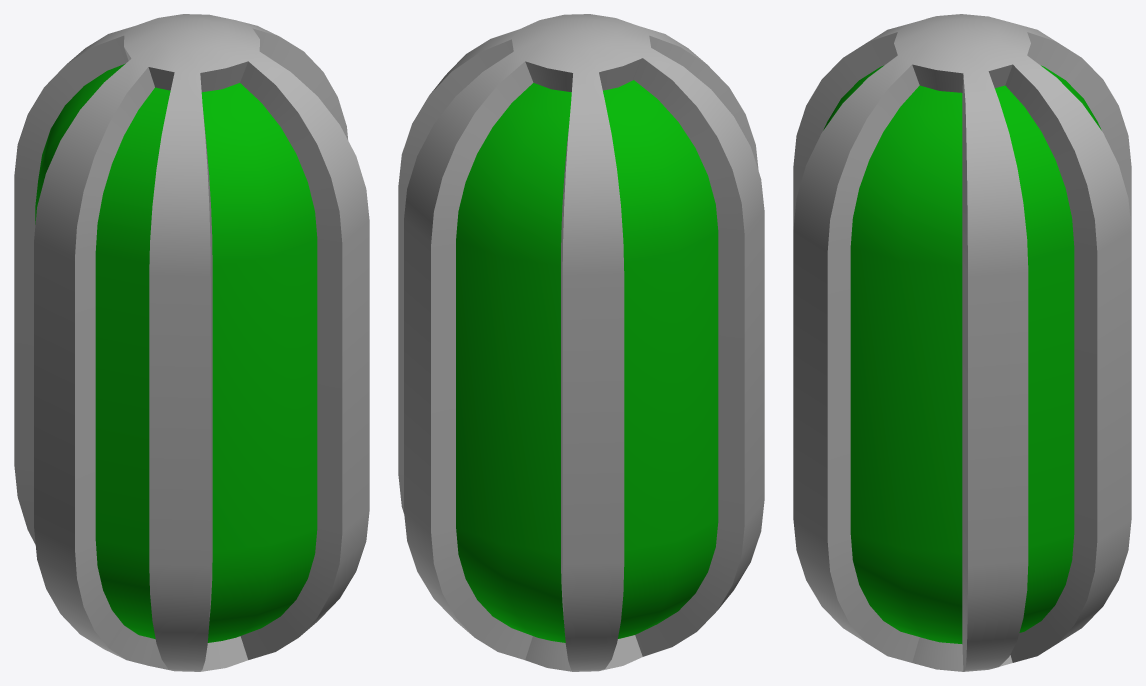
File: OrbOfNUke.fbx
The picture shows the model from 3 angles, left to right: view 1: azimuth 30°, elevation 25°; view 2: azimuth 150°, elevation 25°; view 3: azimuth 270°, elevation 25°; orthographic projection.
Visible parts, largest first — view 1: CoreHold, Core; view 2: CoreHold, Core; view 3: CoreHold, Core.
Part boxes in pixels (left/top/right/bottom): CoreHold: left=14, top=14, right=369, bottom=671; Core: left=35, top=63, right=317, bottom=642; CoreHold: left=398, top=14, right=764, bottom=671; Core: left=456, top=80, right=718, bottom=642; CoreHold: left=793, top=14, right=1131, bottom=671; Core: left=823, top=65, right=1101, bottom=643.
Bounding box in the file's own units: 176 × 326 × 160.
